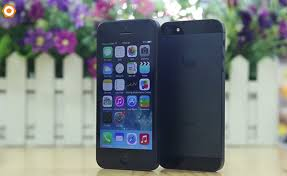iphone: (92, 16, 162, 172)
iphone5: (92, 18, 162, 174)
